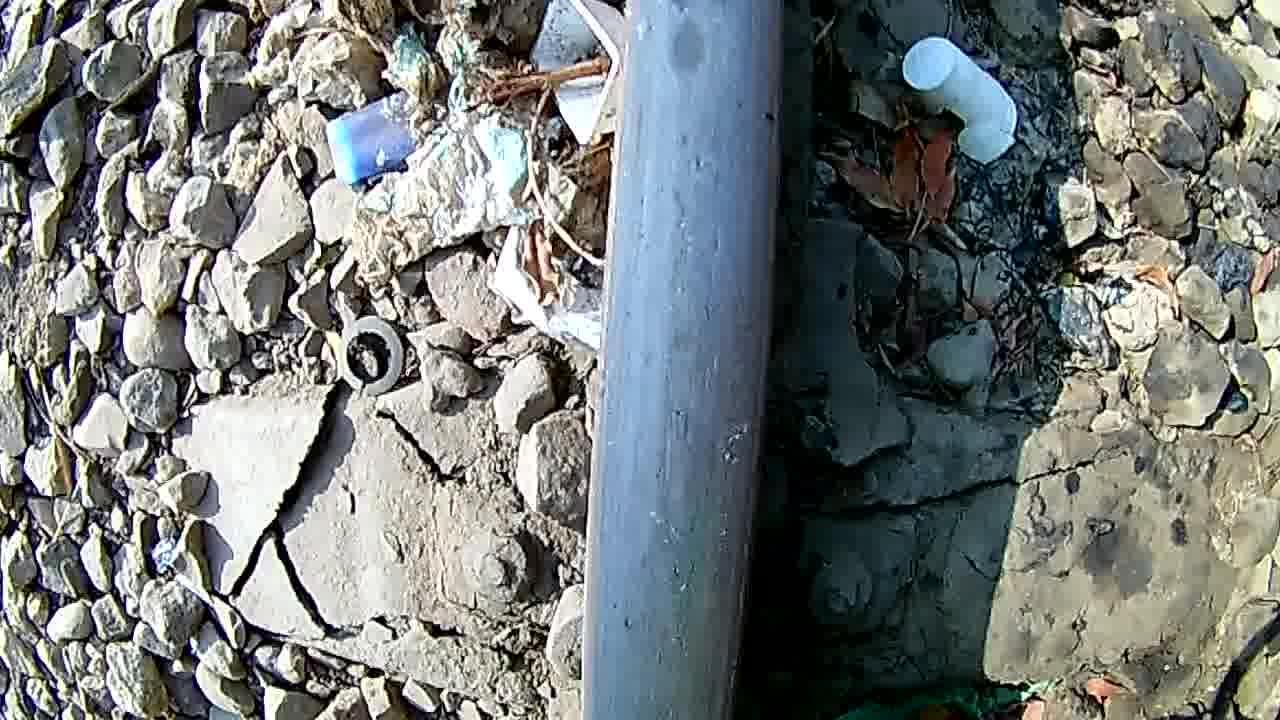crack: (612, 0, 774, 160)
